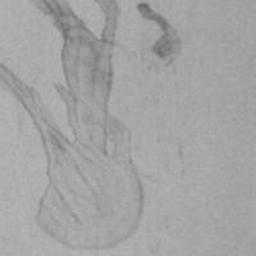Water spot: (0, 0, 151, 252), (132, 0, 183, 69)
